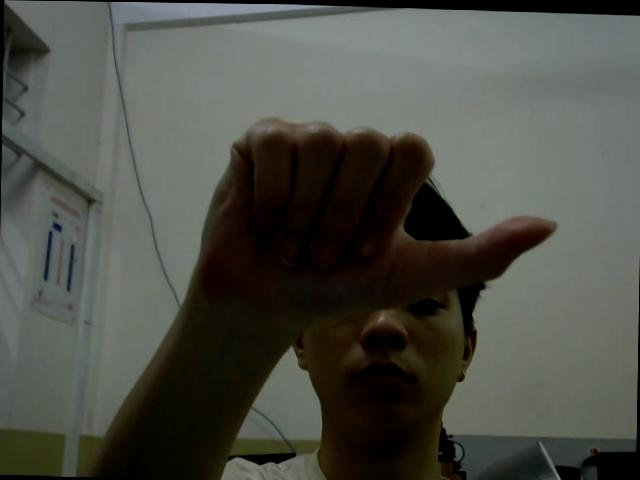A: (194, 111, 560, 320)
